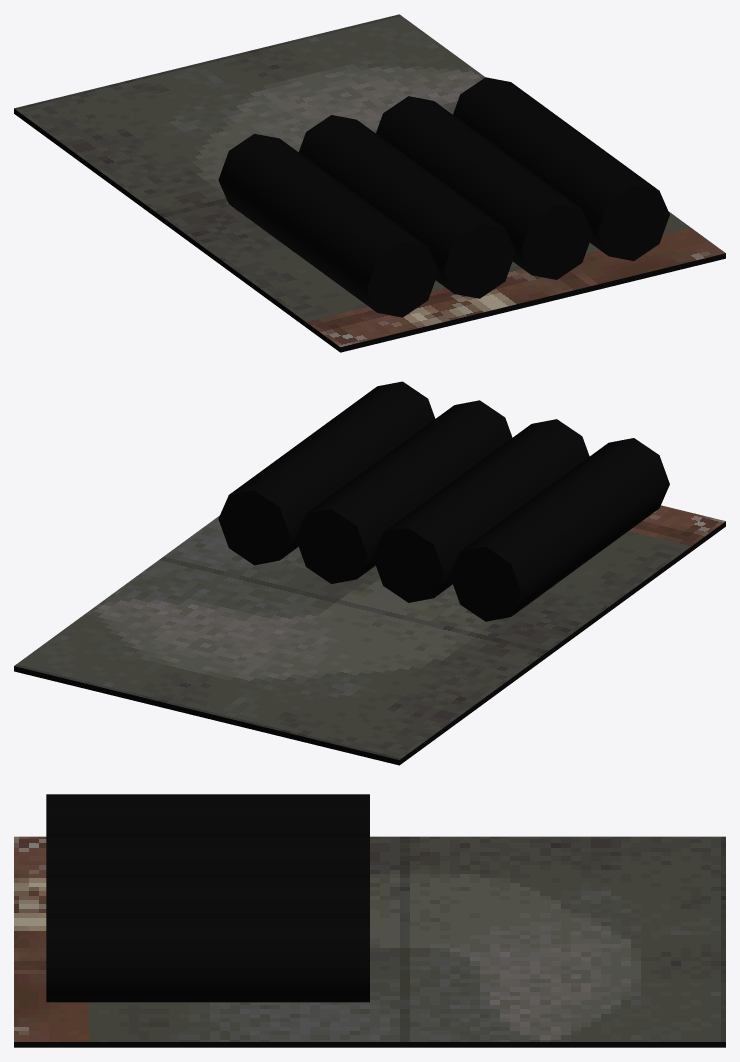
The model's file is battery_aa_pack.glb.
The picture shows the model from 3 angles, top to bottom: view 1: azimuth 30°, elevation 25°; view 2: azimuth 150°, elevation 25°; view 3: azimuth 270°, elevation 25°; orthographic projection. The views are drawn at different scales.
Parts seen in each view (by area): view 1: battery_aa_pack; view 2: battery_aa_pack; view 3: battery_aa_pack.
Part boxes in pixels (x1,y1,x2,y2): battery_aa_pack: (14, 14, 725, 352); battery_aa_pack: (14, 381, 725, 765); battery_aa_pack: (14, 794, 725, 1047).
Bounding box in the file's own units: 0.075 × 0.015 × 0.11.
